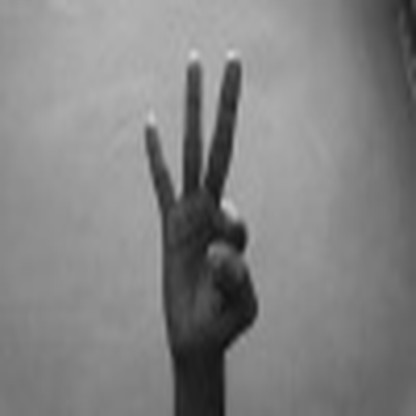f: (129, 41, 282, 350)
